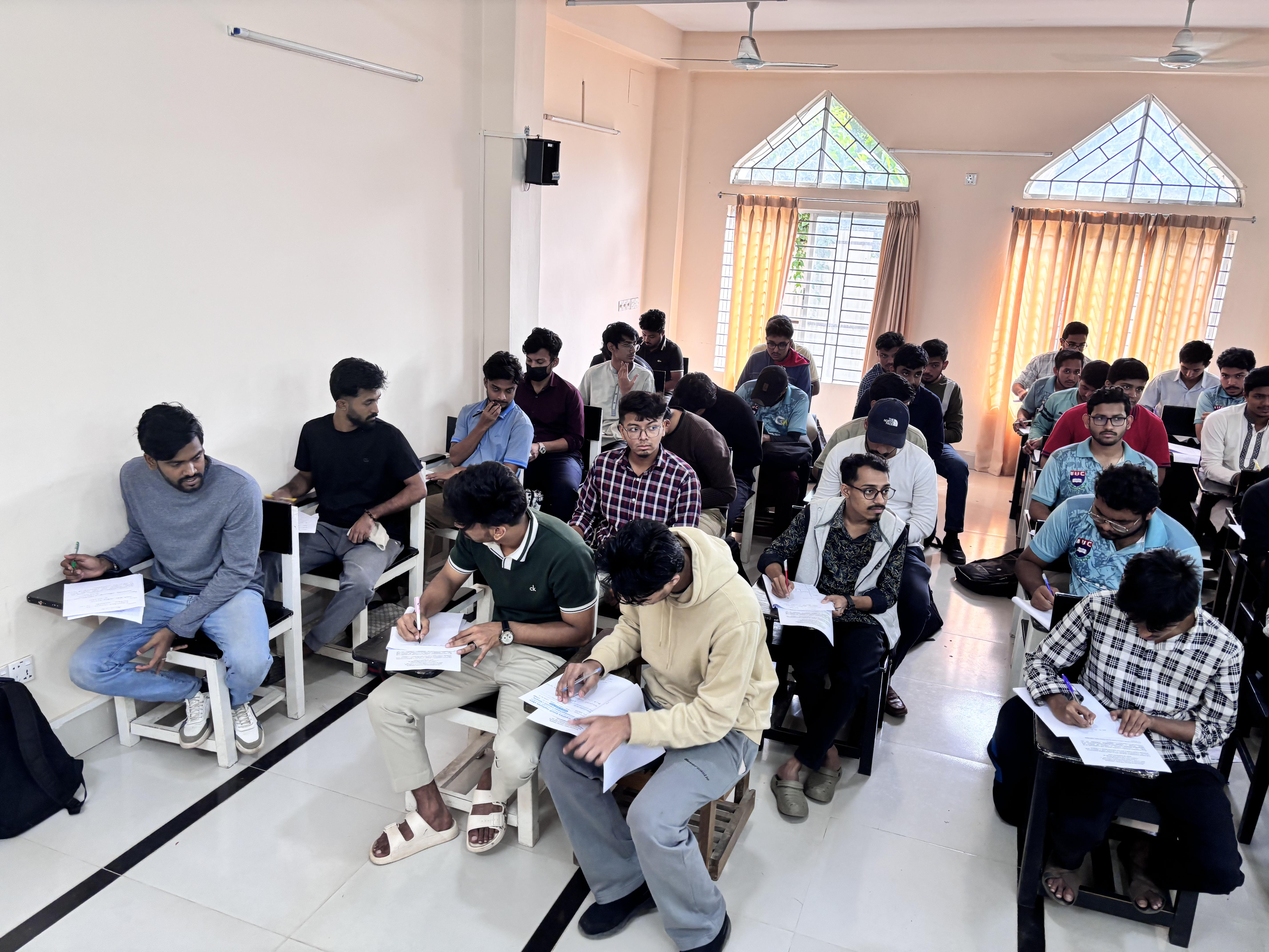copying: (58, 391, 261, 698), (277, 349, 413, 598), (922, 329, 971, 416)
no_cheating: (1028, 546, 1227, 839), (541, 520, 736, 807), (760, 454, 901, 692), (579, 388, 705, 554), (1036, 459, 1162, 623), (437, 347, 548, 486), (1054, 387, 1157, 478), (1202, 363, 1269, 499), (520, 329, 581, 456), (740, 362, 812, 448), (585, 316, 654, 401), (1153, 340, 1216, 424), (852, 399, 920, 470), (750, 314, 815, 371), (1206, 346, 1253, 414), (635, 302, 681, 371), (1104, 351, 1155, 408), (893, 346, 942, 392), (1048, 346, 1086, 399), (1061, 314, 1095, 359)
side_talking: (383, 459, 533, 713)
